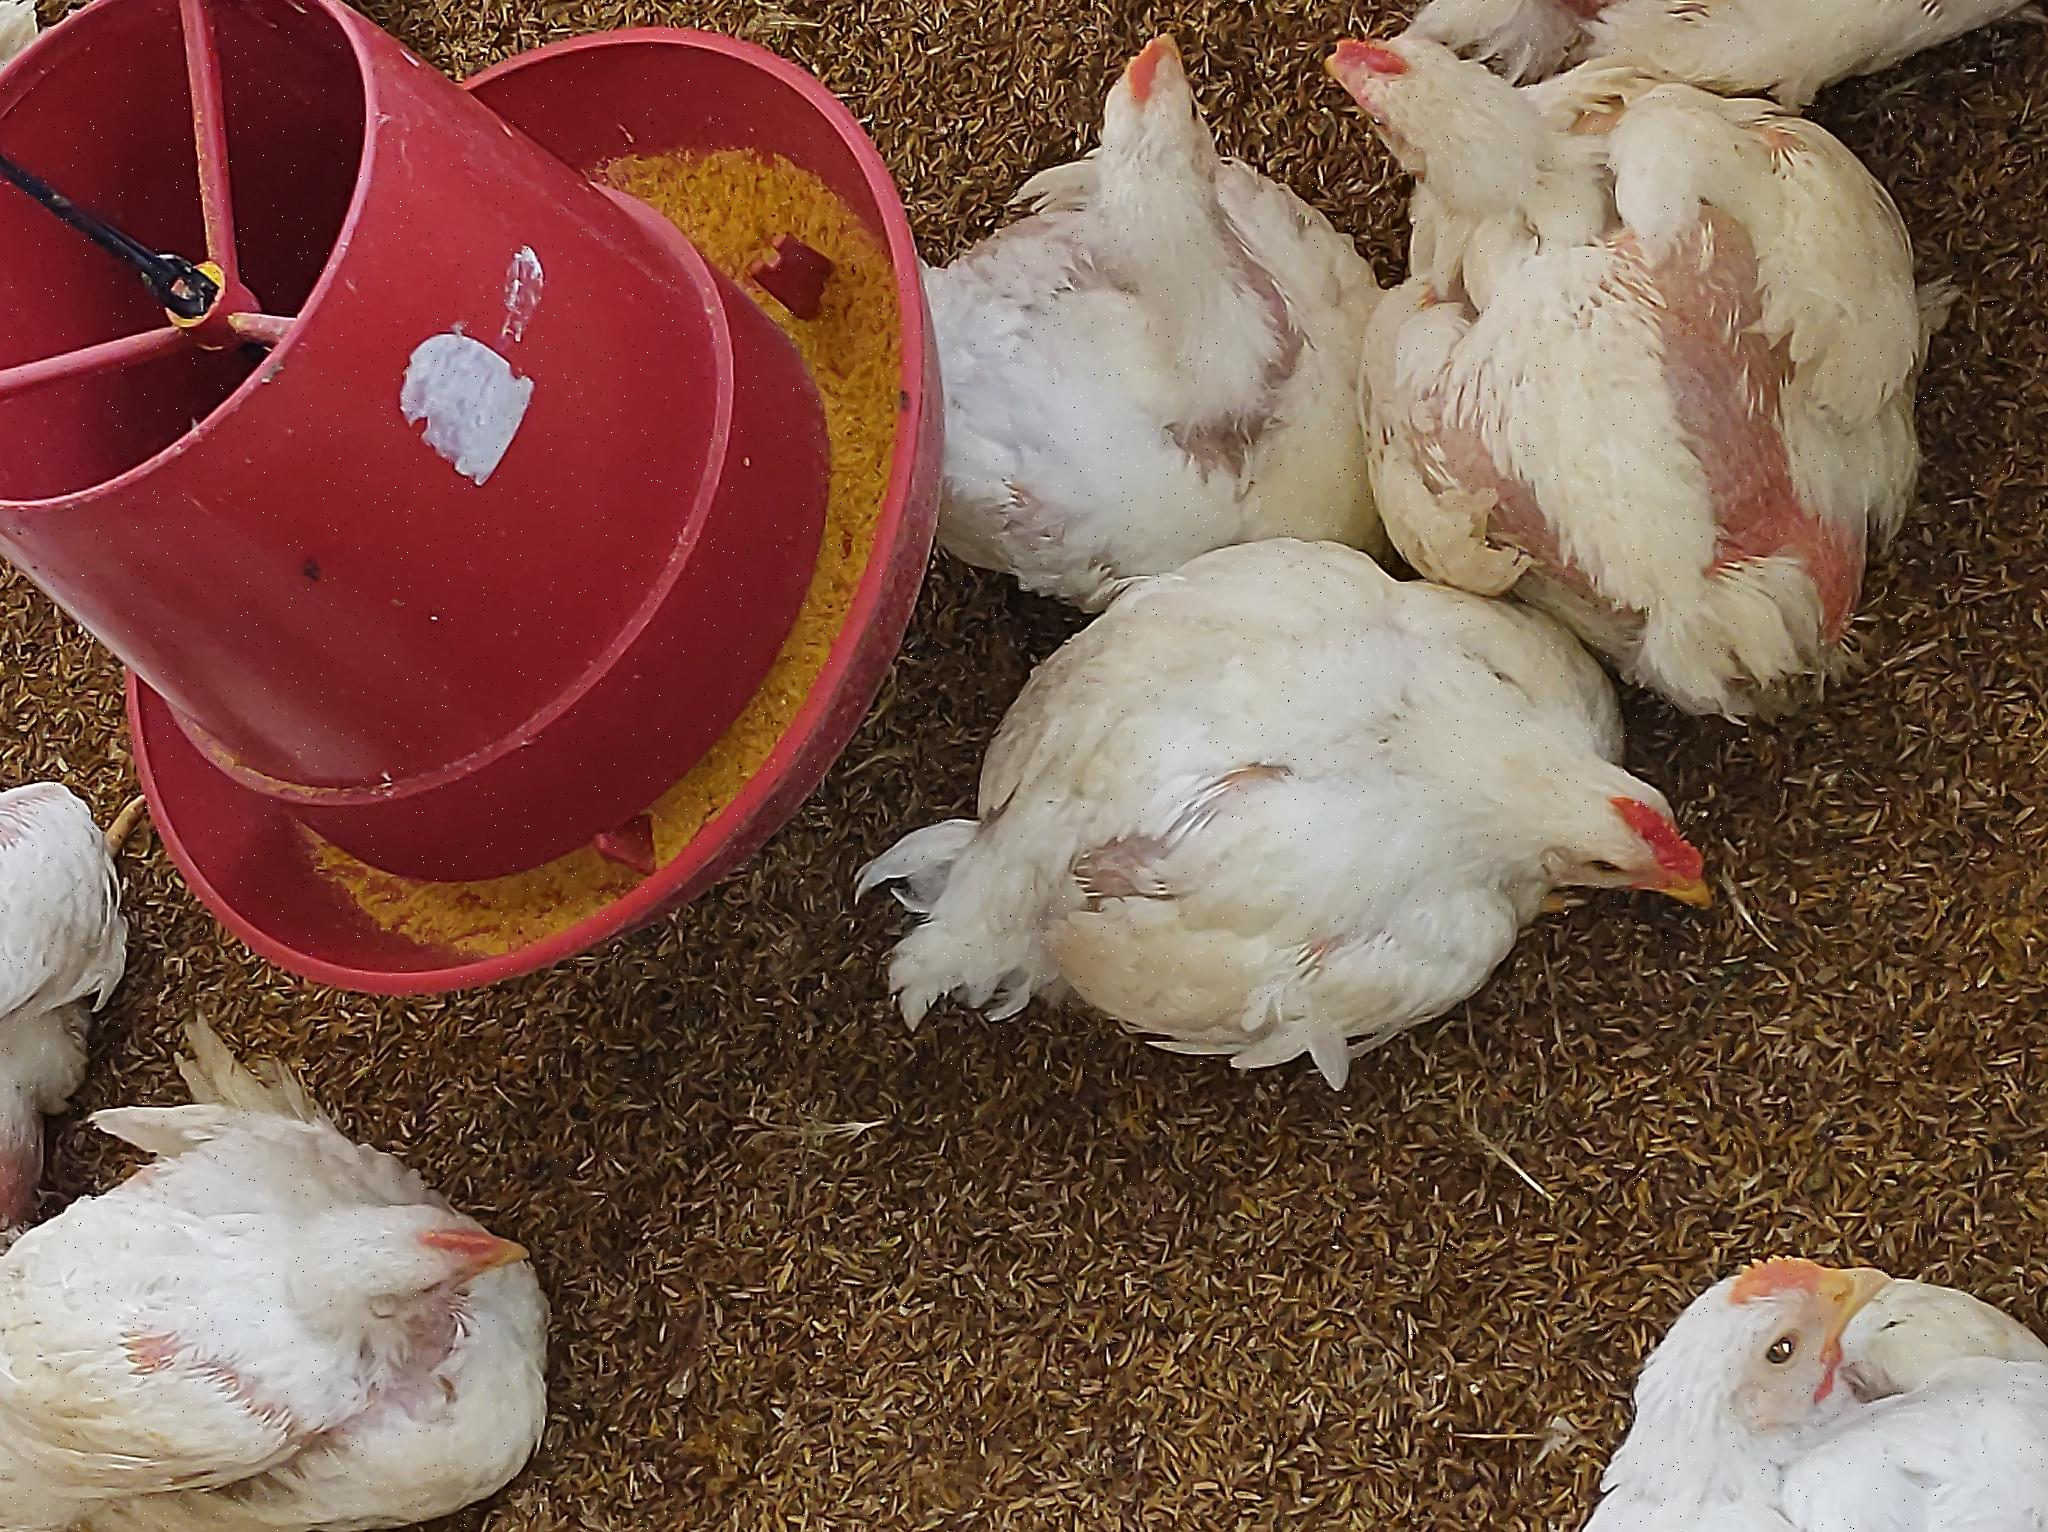Pollos: (422, 859, 968, 1532), (911, 917, 1485, 1415), (2, 2, 471, 589), (856, 1307, 1525, 1532), (354, 2, 803, 167)
